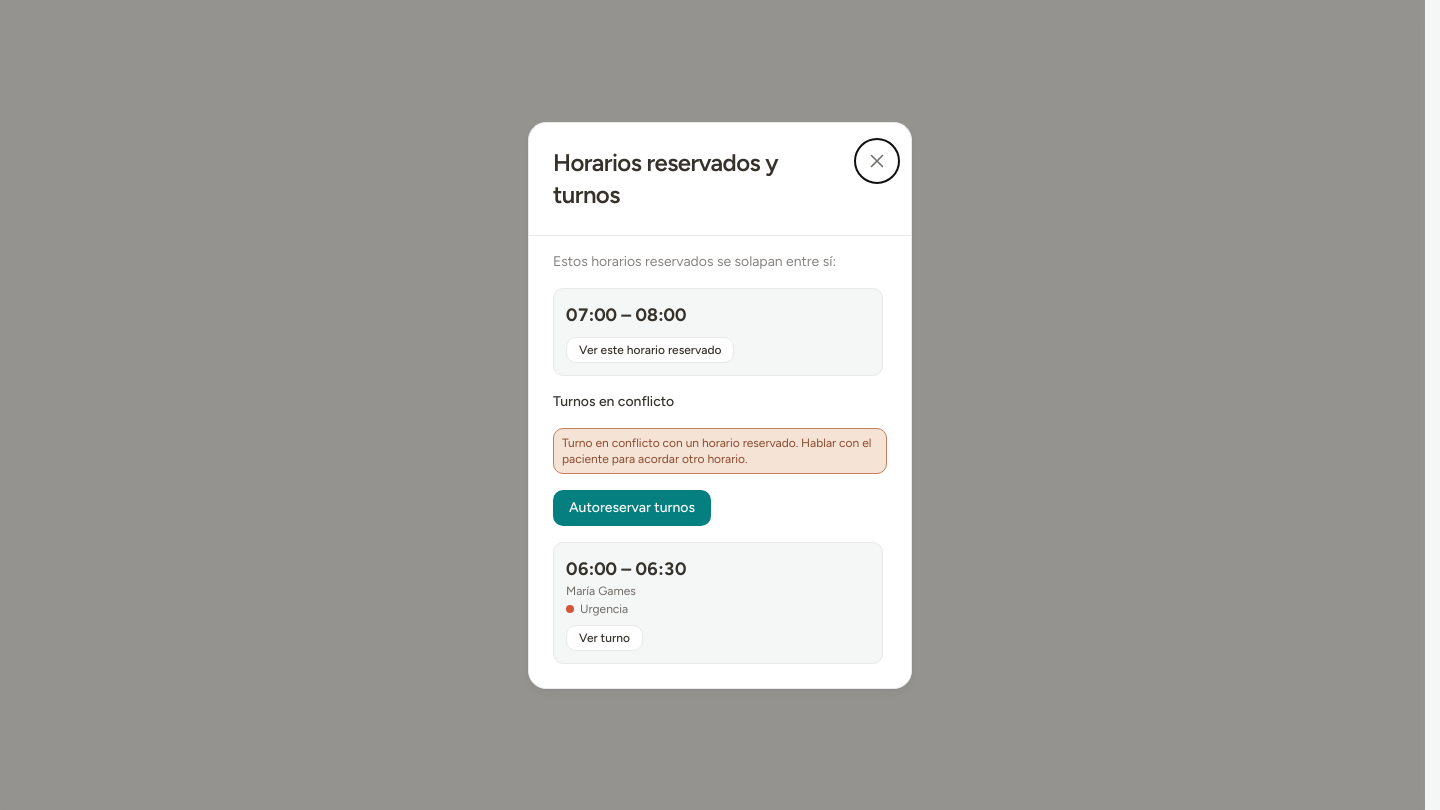
Test: BloqueoDetalleModal › autoreservar turnos › en éxito, reemplaza el cuerpo por la pantalla de confirmación con el horario viejo y el nuevo
Click the button "Autoreservar turnos".
click(632, 508)  # box top-left (553, 490), bottom-right (711, 526)
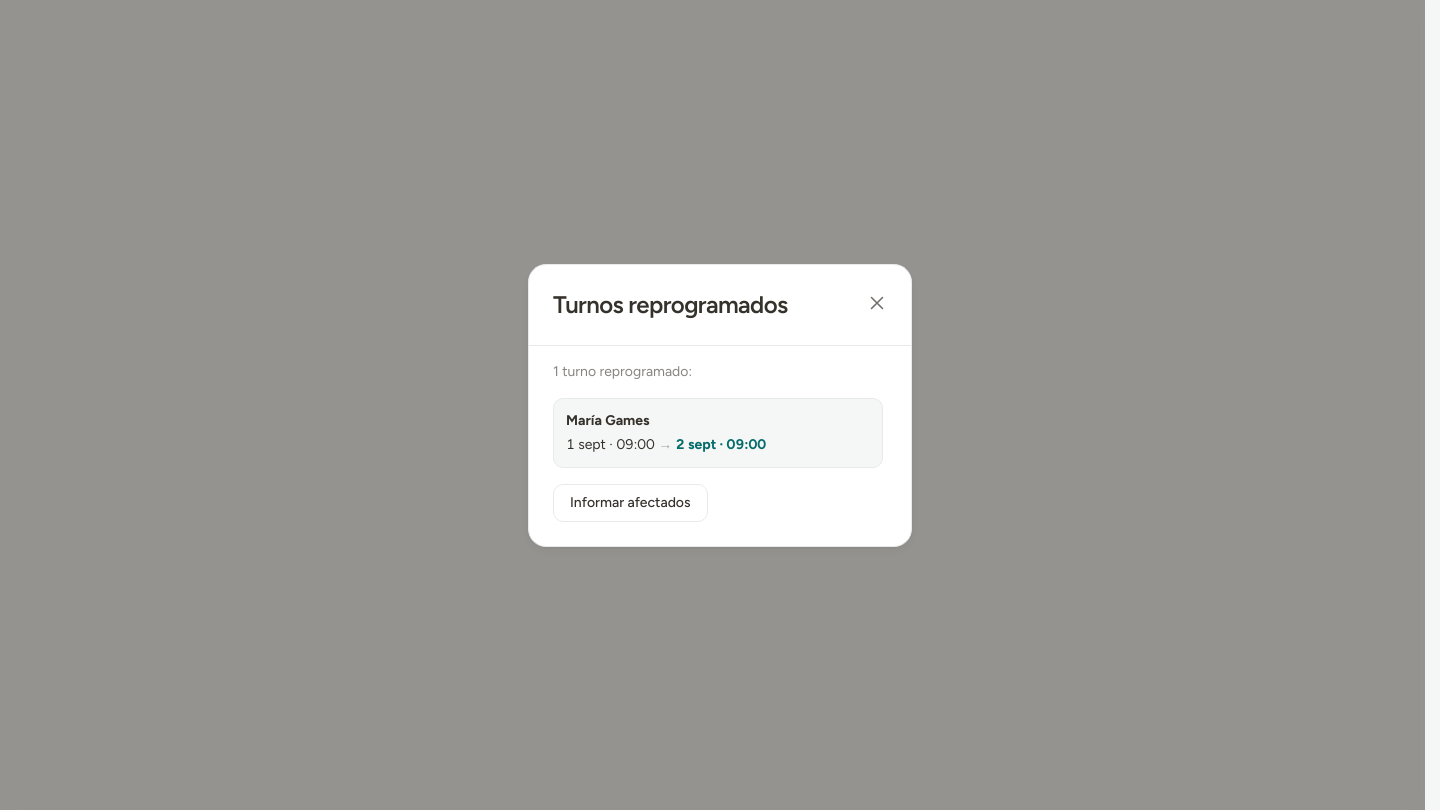
Check: the heading "Turnos reprogramados" is shown, box top-left (553, 288), bottom-right (788, 320)
Check: the text "María Games" is shown, box top-left (566, 412), bottom-right (650, 428)
Check: the button "Informar afectados" is shown, box top-left (553, 484), bottom-right (708, 522)
